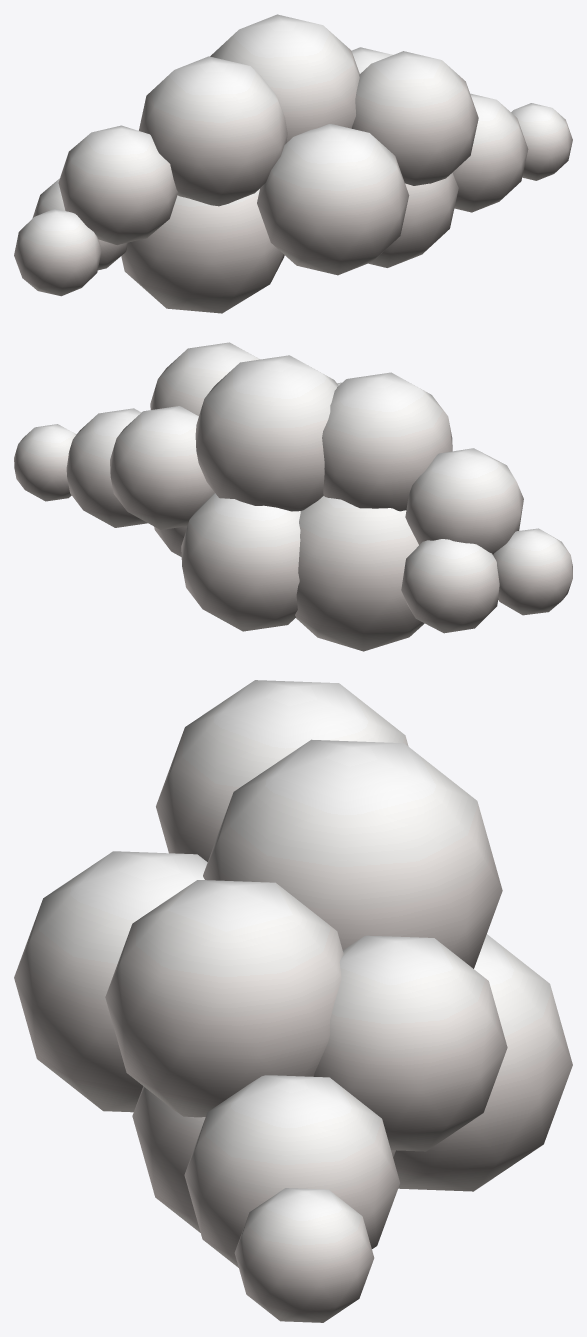
Rendered from Cloud_1A.fbx.
The picture shows the model from 3 angles, top to bottom: view 1: azimuth 30°, elevation 25°; view 2: azimuth 150°, elevation 25°; view 3: azimuth 270°, elevation 25°; orthographic projection. The views are drawn at different scales.
Visible parts, largest first — view 1: Cloud_1A; view 2: Cloud_1A; view 3: Cloud_1A.
Part boxes in pixels (x1=…): Cloud_1A: x1=14, y1=14, x2=572, y2=313; Cloud_1A: x1=14, y1=342, x2=572, y2=651; Cloud_1A: x1=14, y1=680, x2=572, y2=1322.
Bounding box in the file's own units: 2101 × 964 × 1041.
